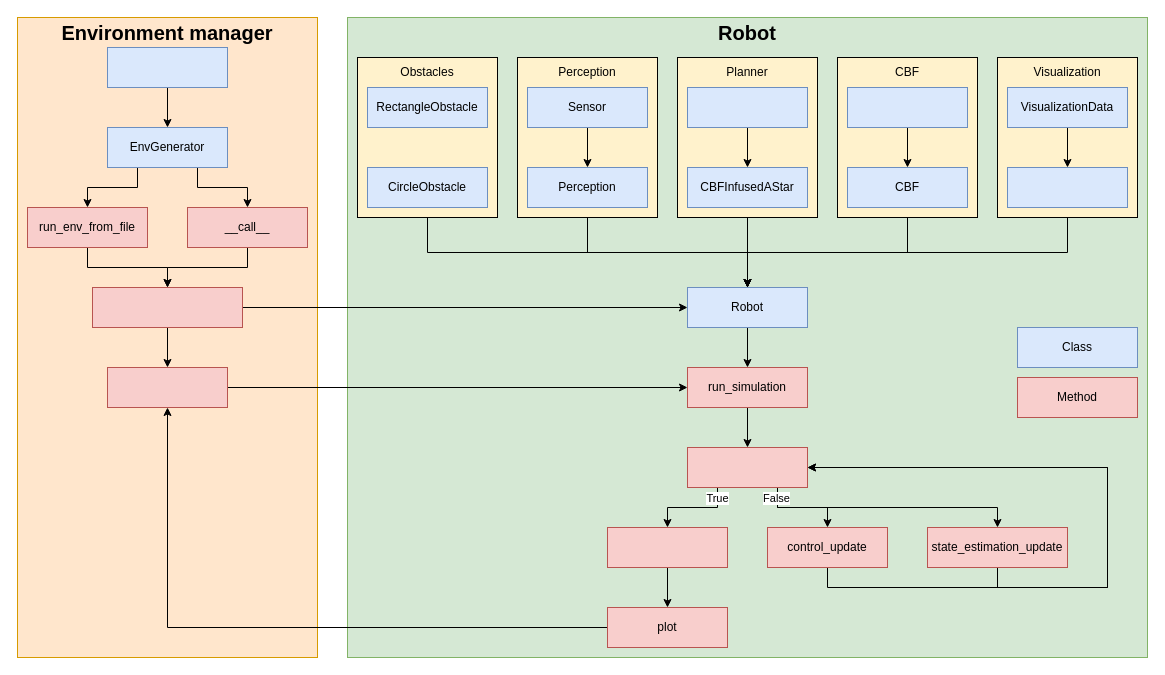
Some shapes in this 1165 by 675 pixel diagram are drawn without their labels. Here are the shapes that lost their labels. From the top down, the centre of each, then its label:
the point at 167,67: EnvGeneratorConfig
the point at 747,107: AStarPlanner
the point at 907,107: RobotCBFConfig
the point at 1067,187: VisualizeSimulation
the point at 167,307: _generate_env_elements
the point at 167,387: _run_env
the point at 747,467: check_goal_reached
the point at 667,547: save_data
